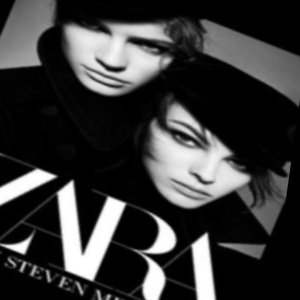zara: (261, 99, 286, 253)
